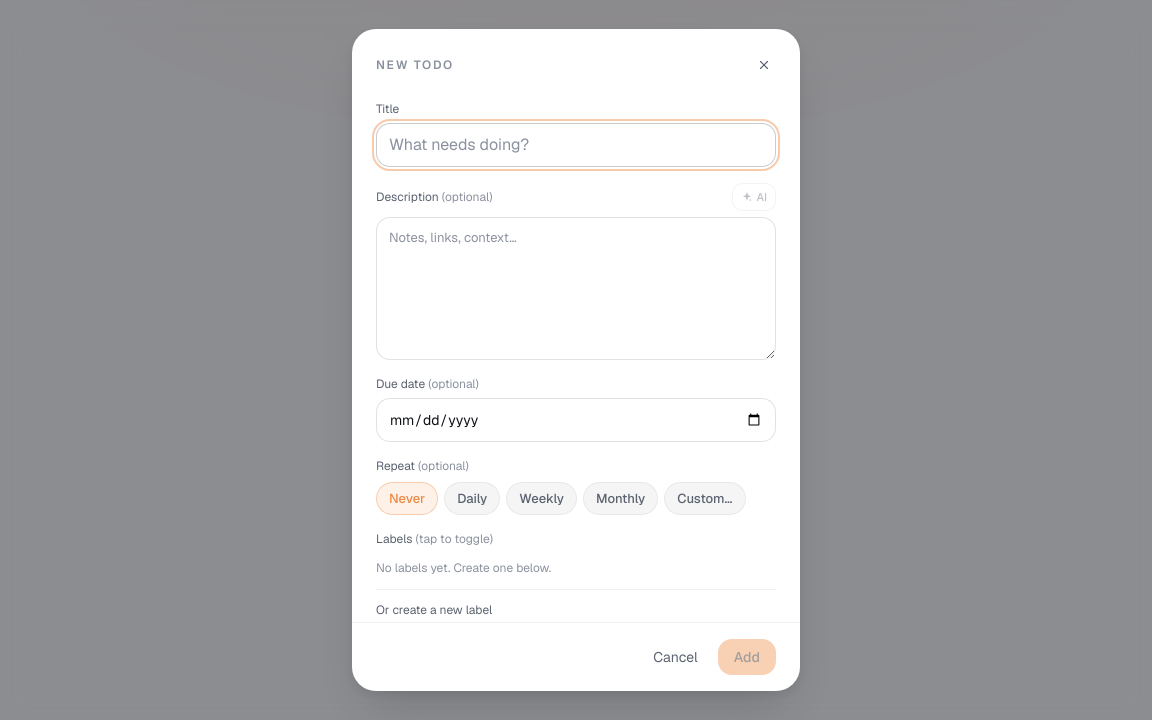
Test: <TodoModal> › shows the AI error message when the server returns one
Type "find coffee" into the field with placeholder "What needs doing?" at point(576, 145), box [376,123,776,167]
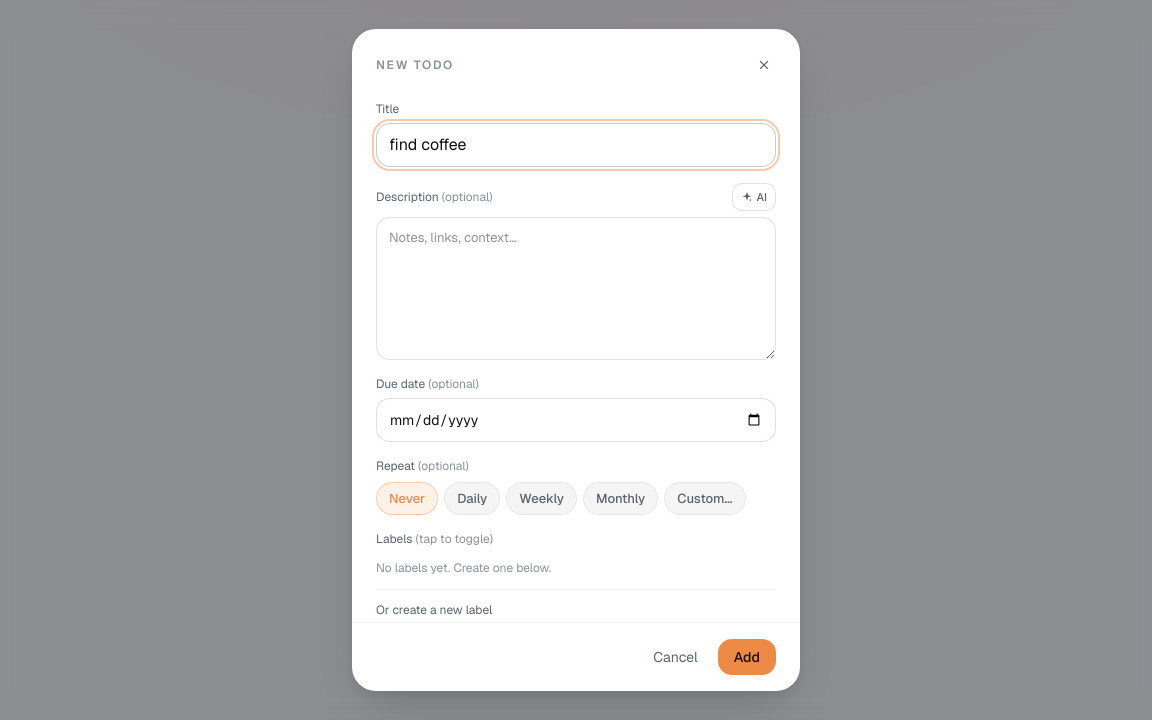
Click the button with aria-label "generate description with ai" at point(754, 197), box [732,183,776,211]
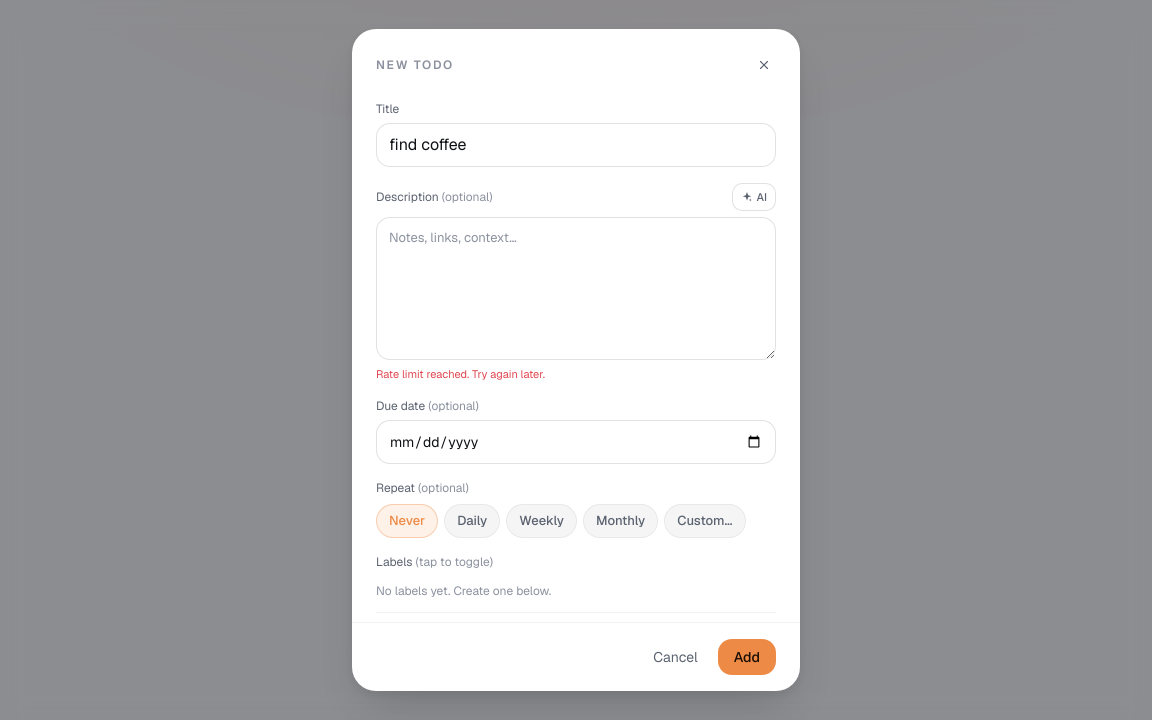
Check: the text "Rate limit reached. Try again later." is shown, box [376,367,545,381]
